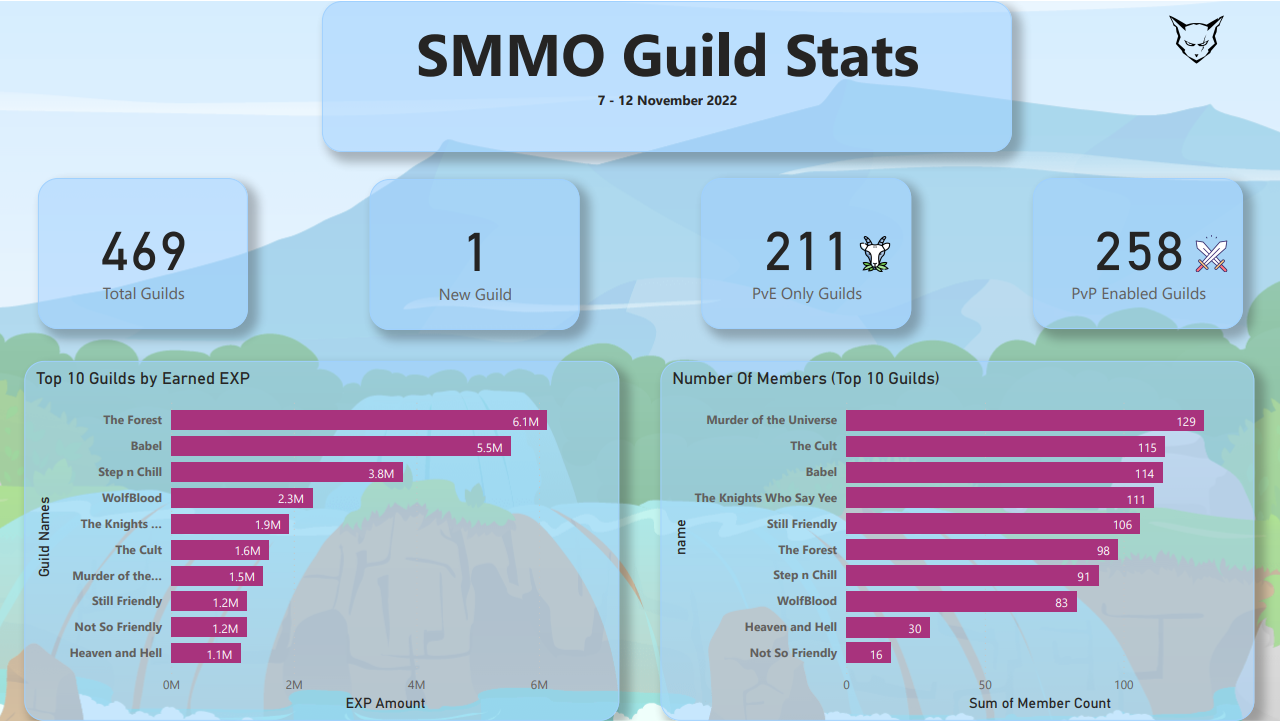

The dashboard page shown, as its layout file describes it:
{"tool":"powerbi","page":{"name":"SMMO Dashboard","canvas":[1280,720],"ordinal":0},"visuals":[{"type":"card","fields":{"Values":["CountNonNull(Saturday - 2022-08-27.id)"]},"box":[38.9,177,210.1,150.8],"z":0},{"type":"card","fields":{"Values":["Saturday - 2022-08-27.New Guild Count"]},"box":[370.6,178,210.1,151],"z":1000},{"type":"barChart","title":"Top 10 Guilds by Earned EXP","fields":{"Category":["Saturday - 2022-08-27.name"],"Y":["Sum(Saturday - 2022-08-27.EXP Change)"]},"box":[25.3,359.9,595.3,359.9],"z":2000},{"type":"textbox","box":[322.9,0,689.6,150.8],"z":3000},{"type":"card","fields":{"Values":["CountNonNull(Saturday - 2022-08-27.passive)"]},"box":[702.2,177,210.1,150.8],"z":3000,"group":"g2"},{"type":"image","box":[1115.6,0,164.4,75.9],"z":4000},{"type":"group","id":"g1","title":"Group 1","box":[1033.9,177,210.1,150.8],"z":5000},{"type":"card","fields":{"Values":["CountNonNull(Saturday - 2022-08-27.passive)"]},"box":[1033.9,177,210.1,150.8],"z":5000,"group":"g1"},{"type":"group","id":"g2","title":"Group 2","box":[702.2,177,210.1,150.8],"z":6000},{"type":"image","box":[849.1,230.5,51.6,44.7],"z":7000,"group":"g2"},{"type":"barChart","title":"Number Of Members (Top 10 Guilds)","fields":{"Category":["Thursday - 2022-11-10.name"],"Y":["Sum(Thursday - 2022-11-10.Member Count)"]},"box":[661,359.9,594.3,359.9],"z":7000},{"type":"image","box":[1180.8,229.5,63.2,45.7],"z":7001,"group":"g1"}]}

Visuals, with their boxes in screenshot pixels (x1, y1, x2, y2), scaled from the page's 1280x720 canvas onto the 1282x723 screenshot:
card - CountNonNull(Saturday - 2022-08-27.id): bbox=[39, 178, 249, 329]
card - Saturday - 2022-08-27.New Guild Count: bbox=[371, 179, 582, 330]
"Top 10 Guilds by Earned EXP" barChart: bbox=[25, 361, 622, 722]
textbox: bbox=[323, 0, 1014, 151]
card - CountNonNull(Saturday - 2022-08-27.passive): bbox=[703, 178, 914, 329]
image: bbox=[1117, 0, 1281, 76]
"Group 1" group: bbox=[1036, 178, 1246, 329]
card - CountNonNull(Saturday - 2022-08-27.passive): bbox=[1036, 178, 1246, 329]
"Group 2" group: bbox=[703, 178, 914, 329]
image: bbox=[850, 231, 902, 276]
"Number Of Members (Top 10 Guilds)" barChart: bbox=[662, 361, 1257, 722]
image: bbox=[1183, 230, 1246, 276]
